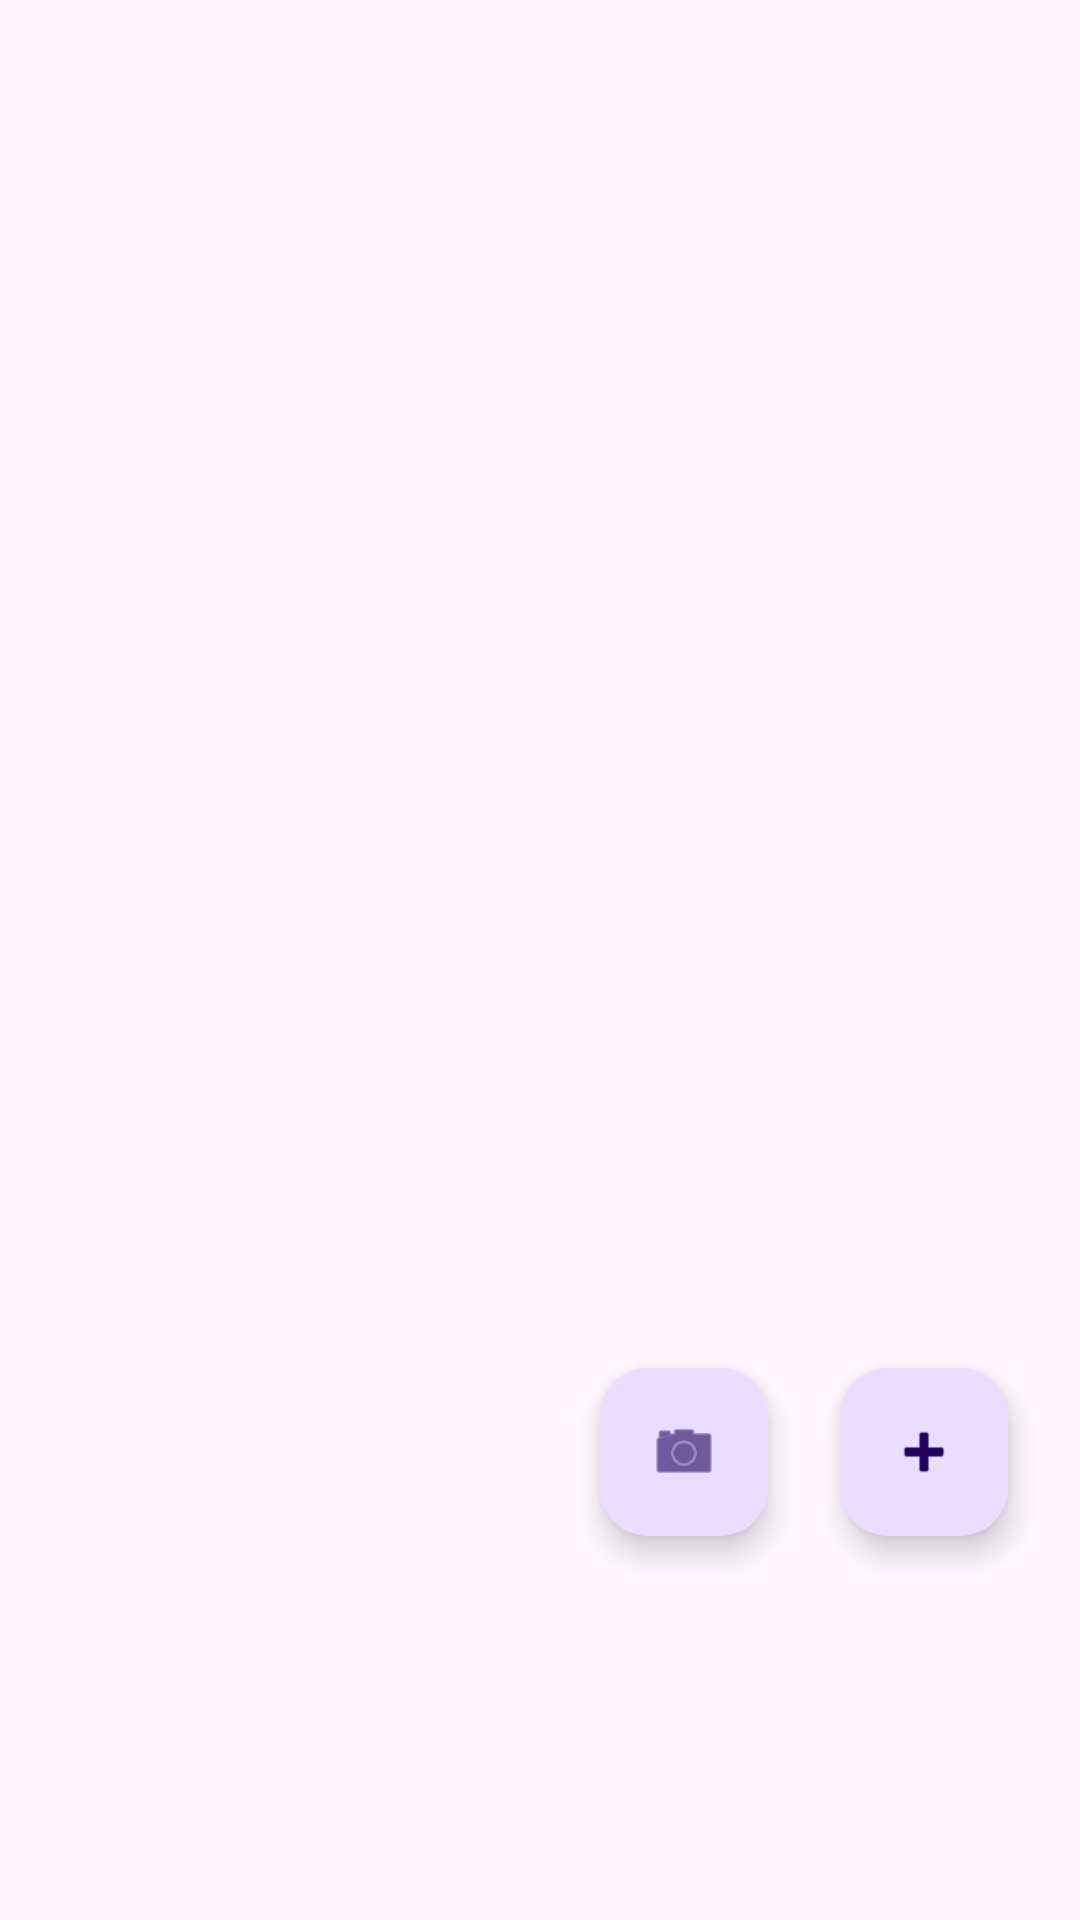

Icon bounding boxes for this 1080x1920 phone screenshot, format (x1, y1, x2, y2):
Добавить товар: (840, 1368, 1008, 1536)
Сканировать QR: (600, 1368, 768, 1536)
